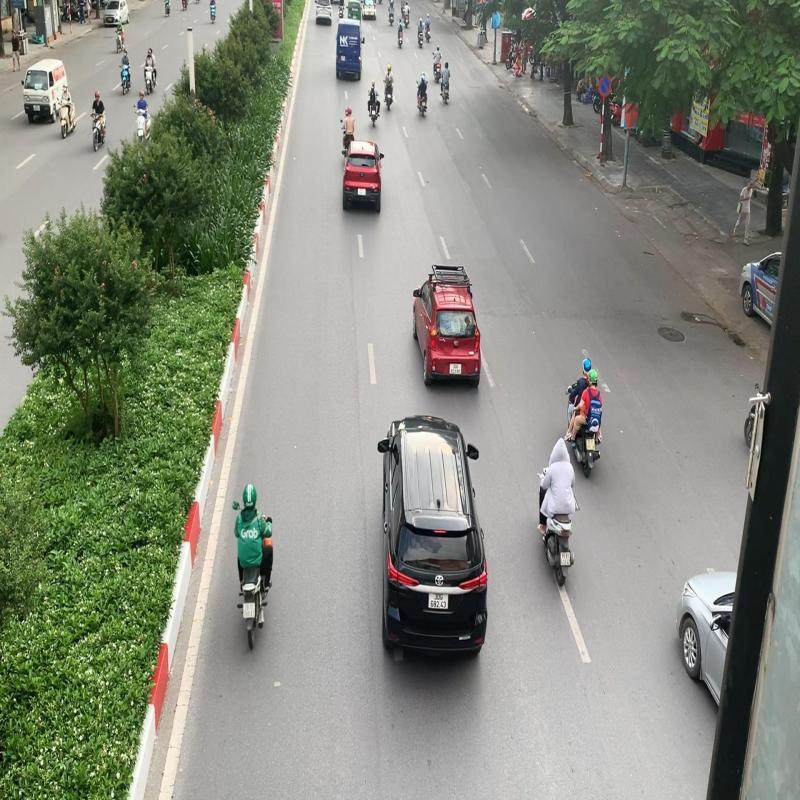helmet: (242, 482, 258, 508), (588, 369, 598, 389), (582, 358, 592, 376)
licenseplate: (243, 602, 256, 620), (586, 438, 596, 451)
motorcyclist: (232, 482, 274, 652), (565, 356, 603, 480)
